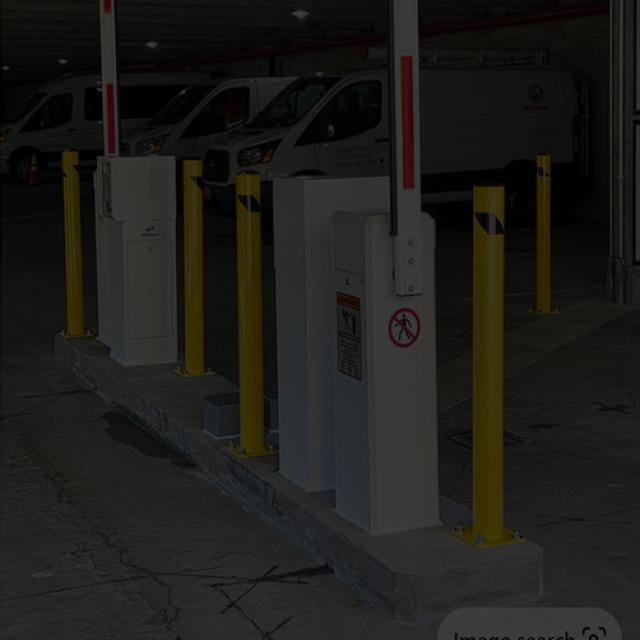Bollard: (466, 180, 510, 534), (233, 167, 268, 451), (178, 154, 208, 374), (57, 145, 90, 343), (529, 148, 556, 312)
